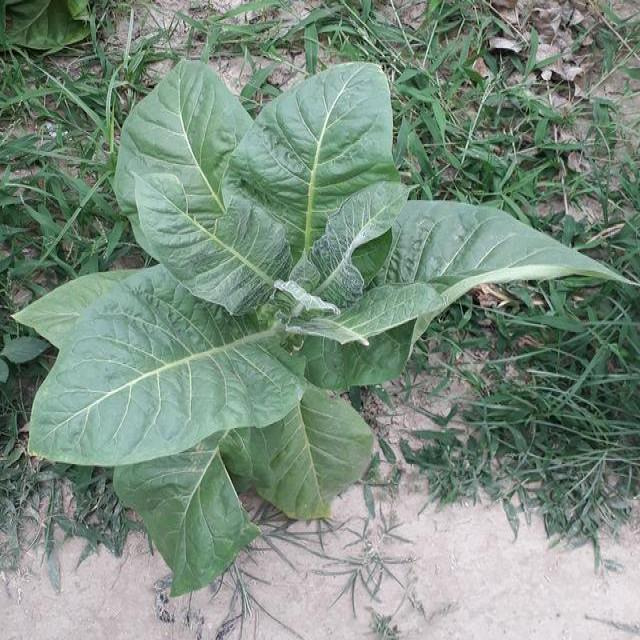crop: (11, 55, 632, 604)
